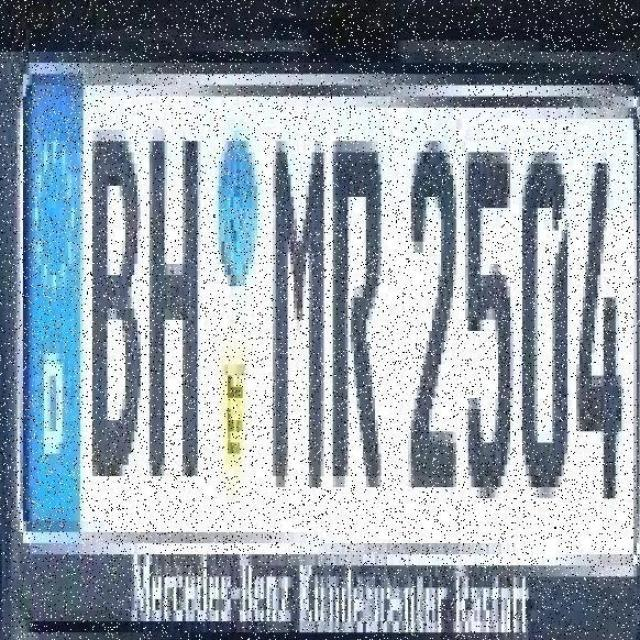license-plate: (17, 35, 627, 618)
